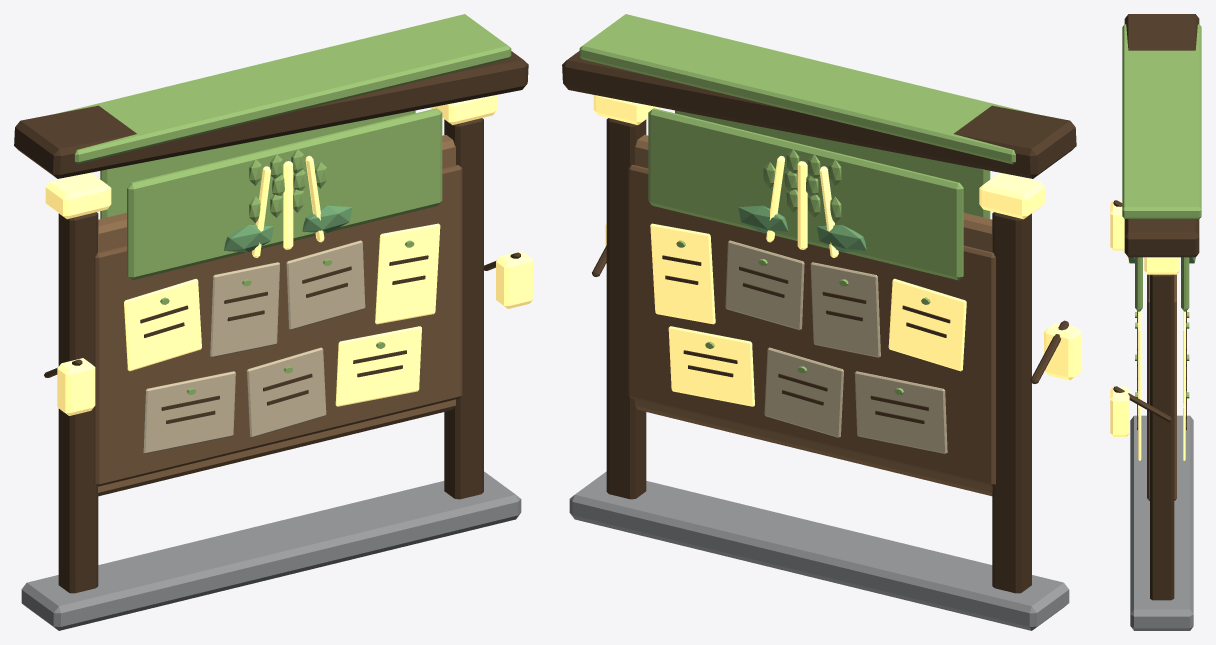
Rendered from request_board_farming.glb.
3 views of the same model, side by side, from view 1: azimuth 30°, elevation 25°; view 2: azimuth 150°, elevation 25°; view 3: azimuth 270°, elevation 25° (orthographic). The views are drawn at different scales.
Bounding box in the file's own units: 6.6 × 6.43 × 1.27.
